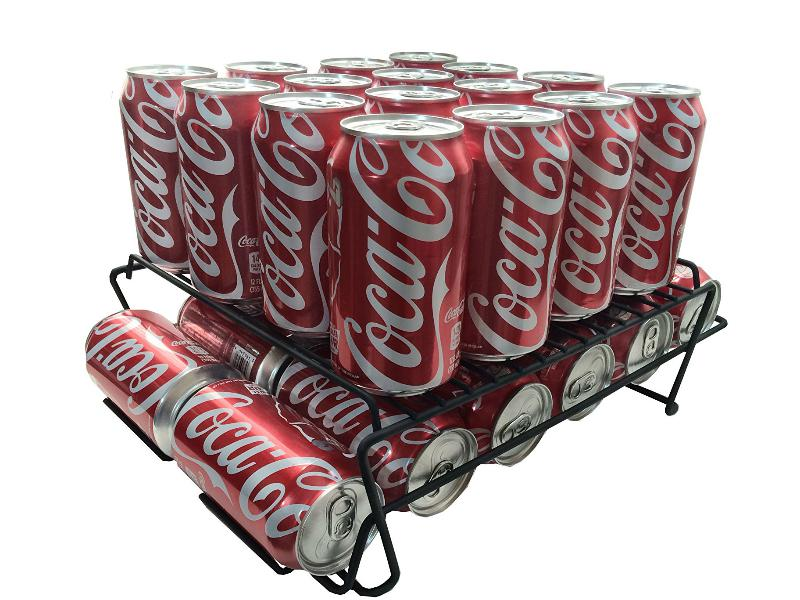can: (192, 362, 372, 587), (329, 114, 472, 394), (462, 103, 572, 364), (258, 89, 366, 351), (627, 73, 707, 315), (562, 88, 643, 327), (184, 70, 265, 303), (342, 414, 490, 519), (122, 55, 191, 277), (82, 303, 172, 442), (472, 373, 559, 482), (551, 334, 620, 431), (620, 299, 673, 386), (665, 272, 719, 347), (280, 68, 376, 91), (362, 86, 460, 106), (222, 58, 319, 77), (317, 54, 403, 73), (466, 75, 544, 94), (391, 48, 465, 65), (448, 61, 521, 75), (526, 71, 610, 82), (376, 69, 443, 81)
